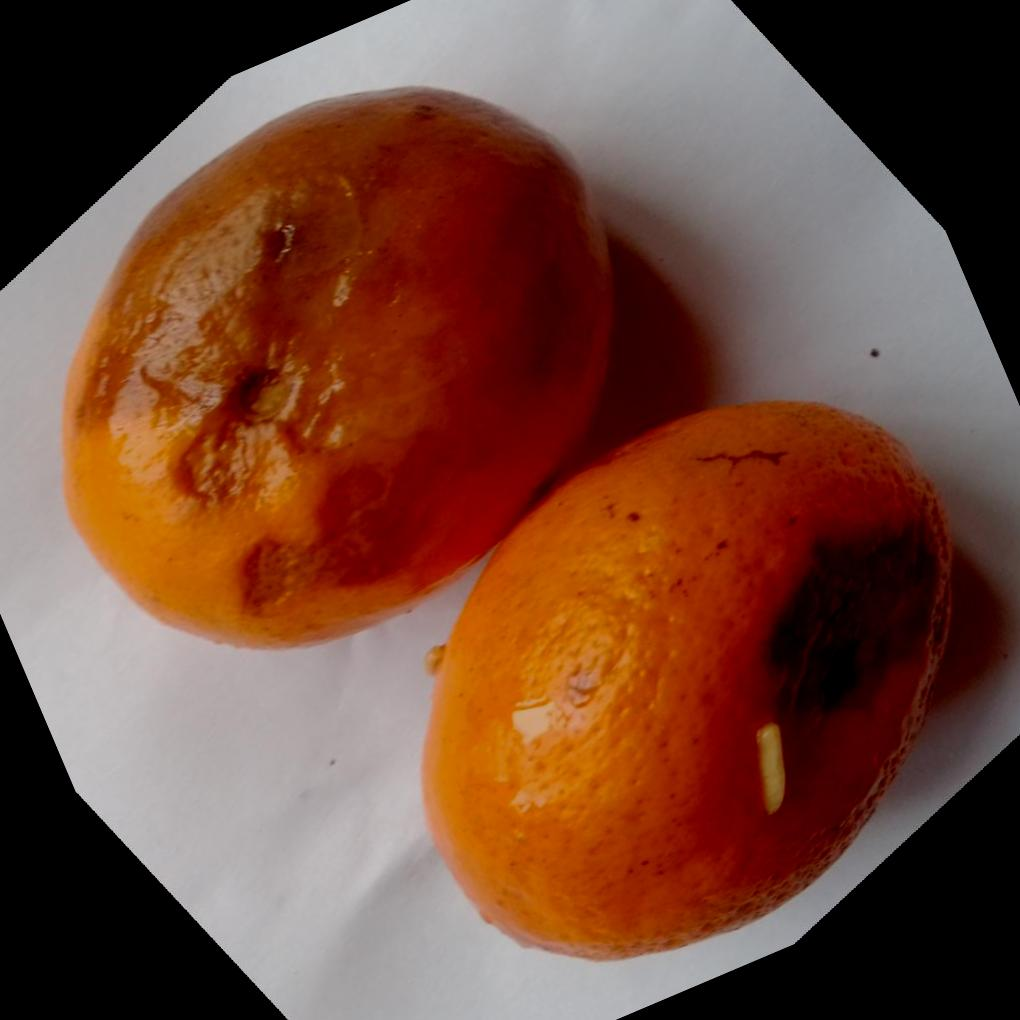FreshOrange: (59, 82, 959, 961)
